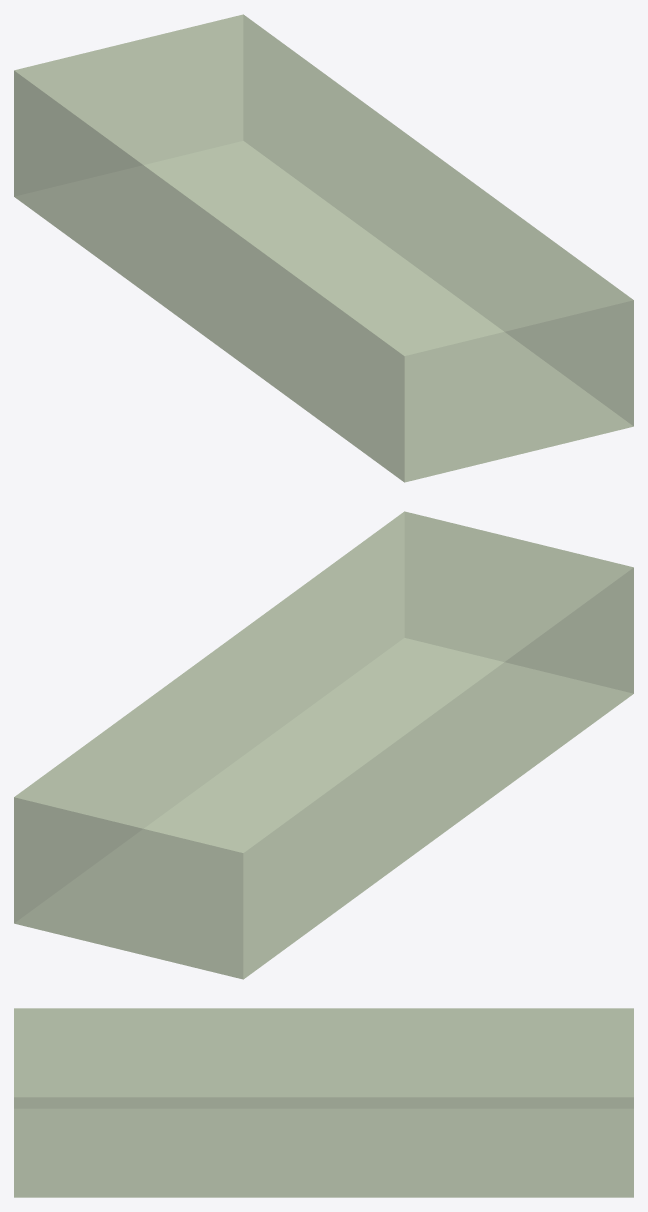
The model's file is blockout.glb.
3 renders of one model, top to bottom at view 1: azimuth 30°, elevation 25°; view 2: azimuth 150°, elevation 25°; view 3: azimuth 270°, elevation 25°, orthographic. The views are drawn at different scales.
Visible parts, largest first — view 1: U08_ENVELOPE_NOT_FINAL_MESH; view 2: U08_ENVELOPE_NOT_FINAL_MESH; view 3: U08_ENVELOPE_NOT_FINAL_MESH.
Boxes of the visible parts, x1,y1,x2,y2 form: U08_ENVELOPE_NOT_FINAL_MESH: [14, 14, 633, 482]; U08_ENVELOPE_NOT_FINAL_MESH: [14, 511, 633, 979]; U08_ENVELOPE_NOT_FINAL_MESH: [14, 1008, 633, 1197].
Bounding box in the file's own units: 1.9 × 1 × 5.6.
